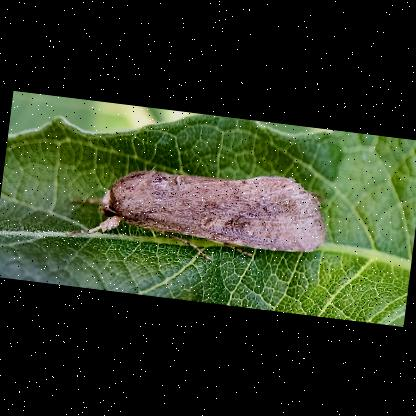Fall Armyworm Moth: (62, 146, 335, 276)
